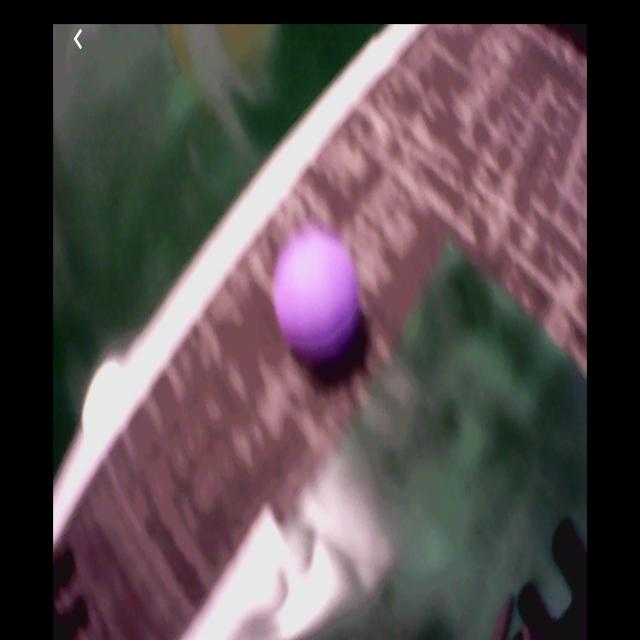ball: (274, 229, 360, 366)
